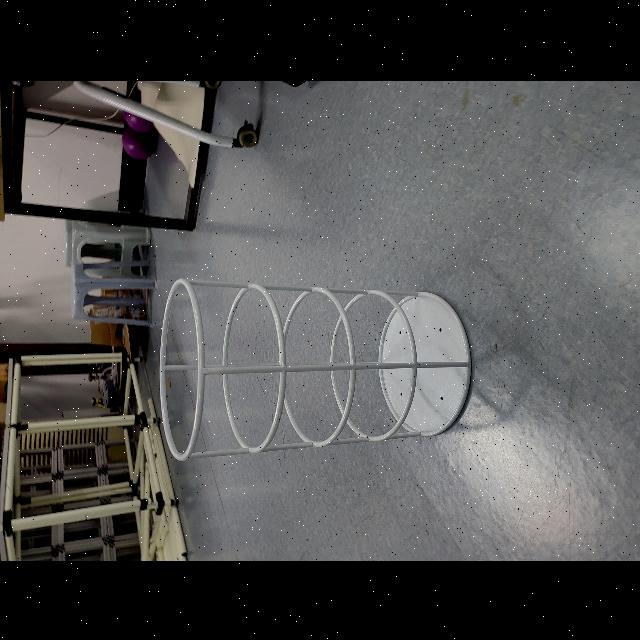S: (155, 272, 479, 462)
